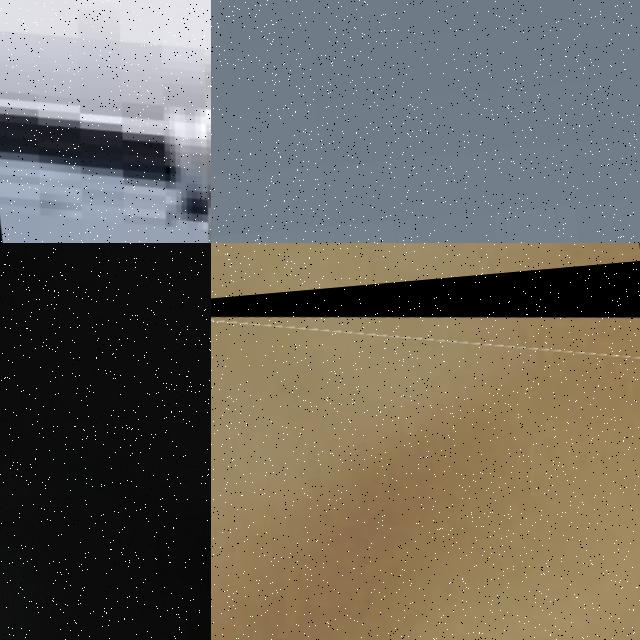drone: (211, 260, 640, 640), (0, 0, 211, 243)
